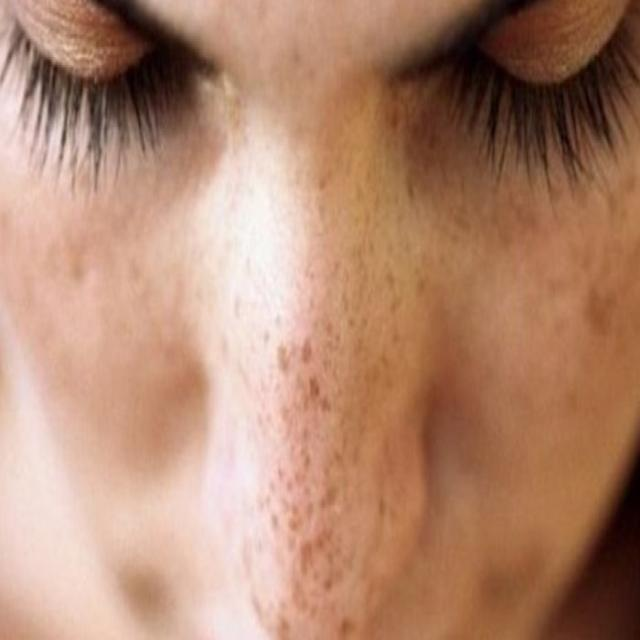Dark-Spots: (233, 123, 410, 640), (415, 158, 640, 420)
